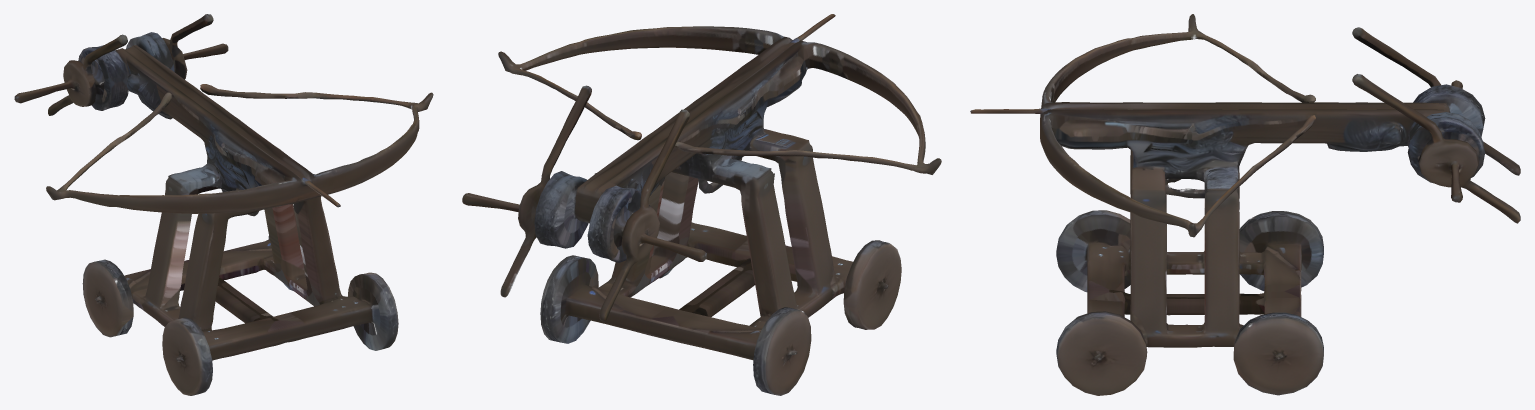
The model's file is archer_red.glb.
The picture shows the model from 3 angles, left to right: view 1: azimuth 30°, elevation 25°; view 2: azimuth 150°, elevation 25°; view 3: azimuth 270°, elevation 25°; orthographic projection. The views are drawn at different scales.
Parts seen in each view (by area): view 1: model; view 2: model; view 3: model.
Part boxes in pixels (x1,y1,x2,y2): model: (14, 14, 433, 395); model: (462, 14, 941, 395); model: (970, 14, 1520, 395).
Size of the model in its own units: 1.72 by 1.11 by 1.89.
1 material, 1 textured.
